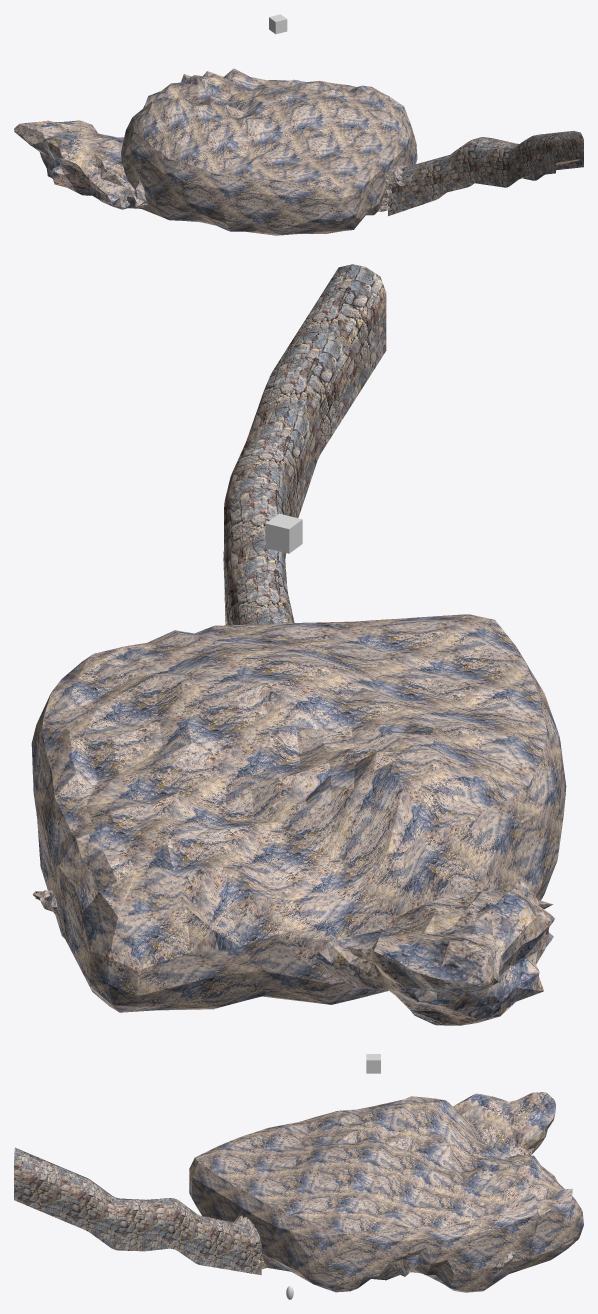
The model's file is Cave For Croc.glb.
3 views of the same model, one above another, from view 1: azimuth 30°, elevation 25°; view 2: azimuth 150°, elevation 25°; view 3: azimuth 270°, elevation 25° (orthographic). The views are drawn at different scales.
Parts seen in each view (by area): view 1: Cave_col, Floor_Stone_col, Wall_Stone_col, Cube.002; view 2: Cave_col, Floor_Stone_col, Wall_Stone_col, Cube.002; view 3: Cave_col, Floor_Stone_col, Wall_Stone_col.
Boxes of the visible parts, x1,y1,x2,y2 form: Cave_col: (121, 68, 417, 235); Floor_Stone_col: (386, 131, 583, 216); Wall_Stone_col: (14, 120, 408, 211); Cube.002: (269, 14, 287, 34); Cave_col: (31, 614, 566, 1012); Floor_Stone_col: (223, 264, 386, 625); Wall_Stone_col: (32, 878, 554, 1025); Cube.002: (265, 513, 302, 553); Cave_col: (189, 1096, 583, 1292); Floor_Stone_col: (14, 1147, 266, 1275); Wall_Stone_col: (233, 1092, 555, 1273).
Size of the model in its own units: 55.36 by 30.88 by 77.36.
Materials: 3 (3 with a texture image).
